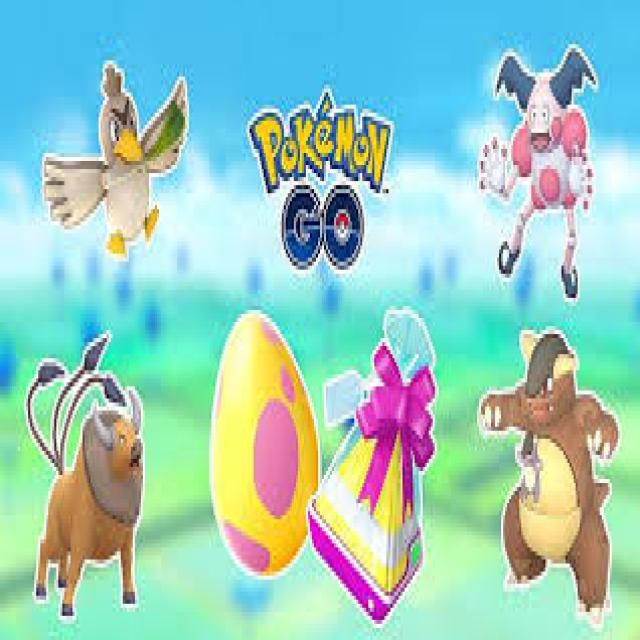Farfetchd: (85, 62, 165, 255)
Kangaskhan: (504, 328, 614, 601)
MrMime: (507, 60, 588, 283)
Tauros: (46, 392, 143, 588)
